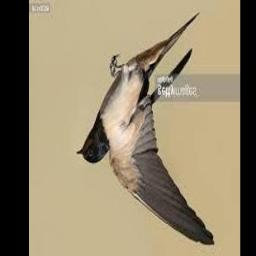Swallow: (75, 12, 215, 246)
